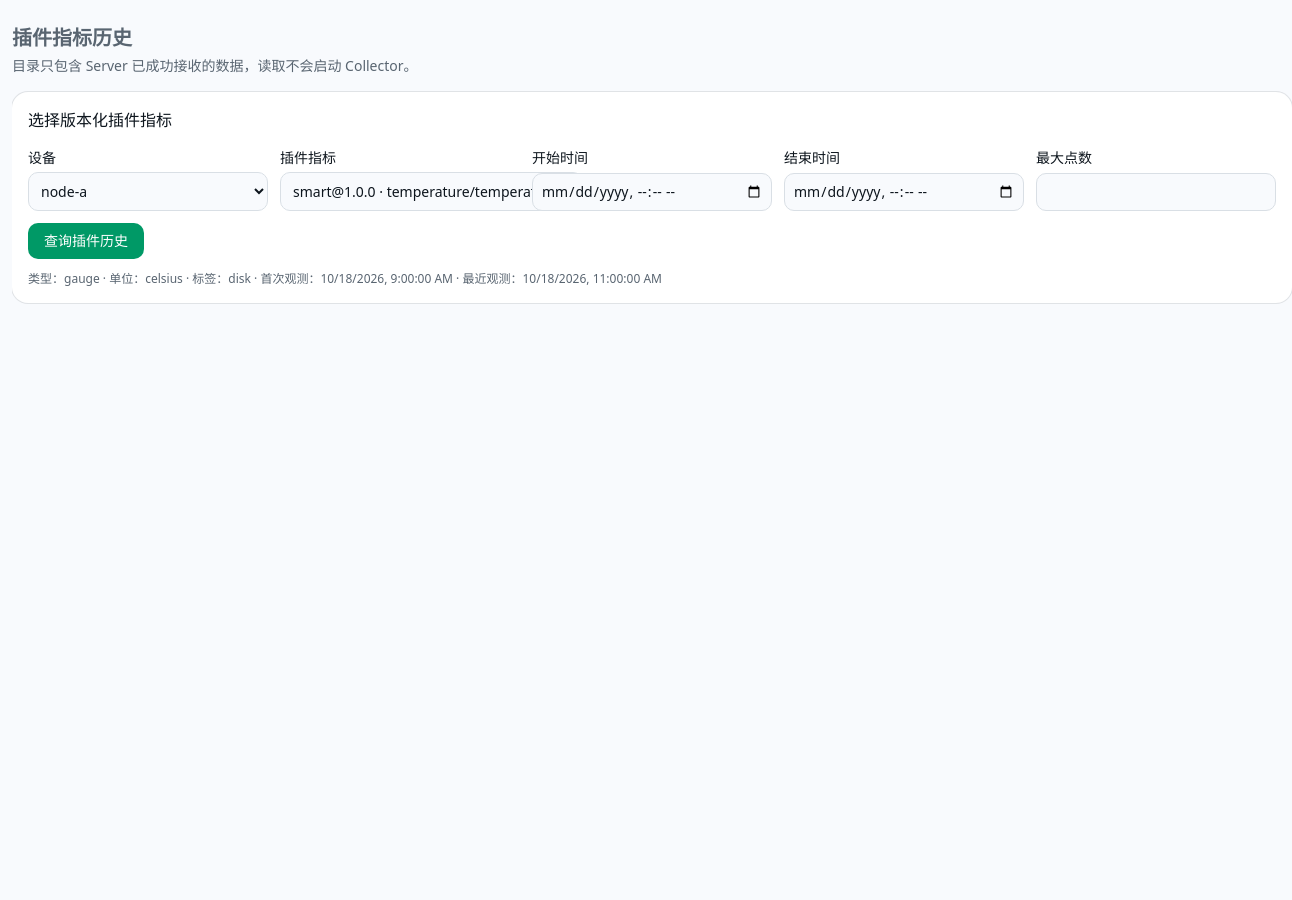
PluginHistoricalMetricExplorer › queries one exact versioned descriptor and displays aggregate semantics
Type "2026-10-18T10:00" into the field named "插件开始时间" at x=652, y=192, box top-left (532, 172), bottom-right (772, 211)
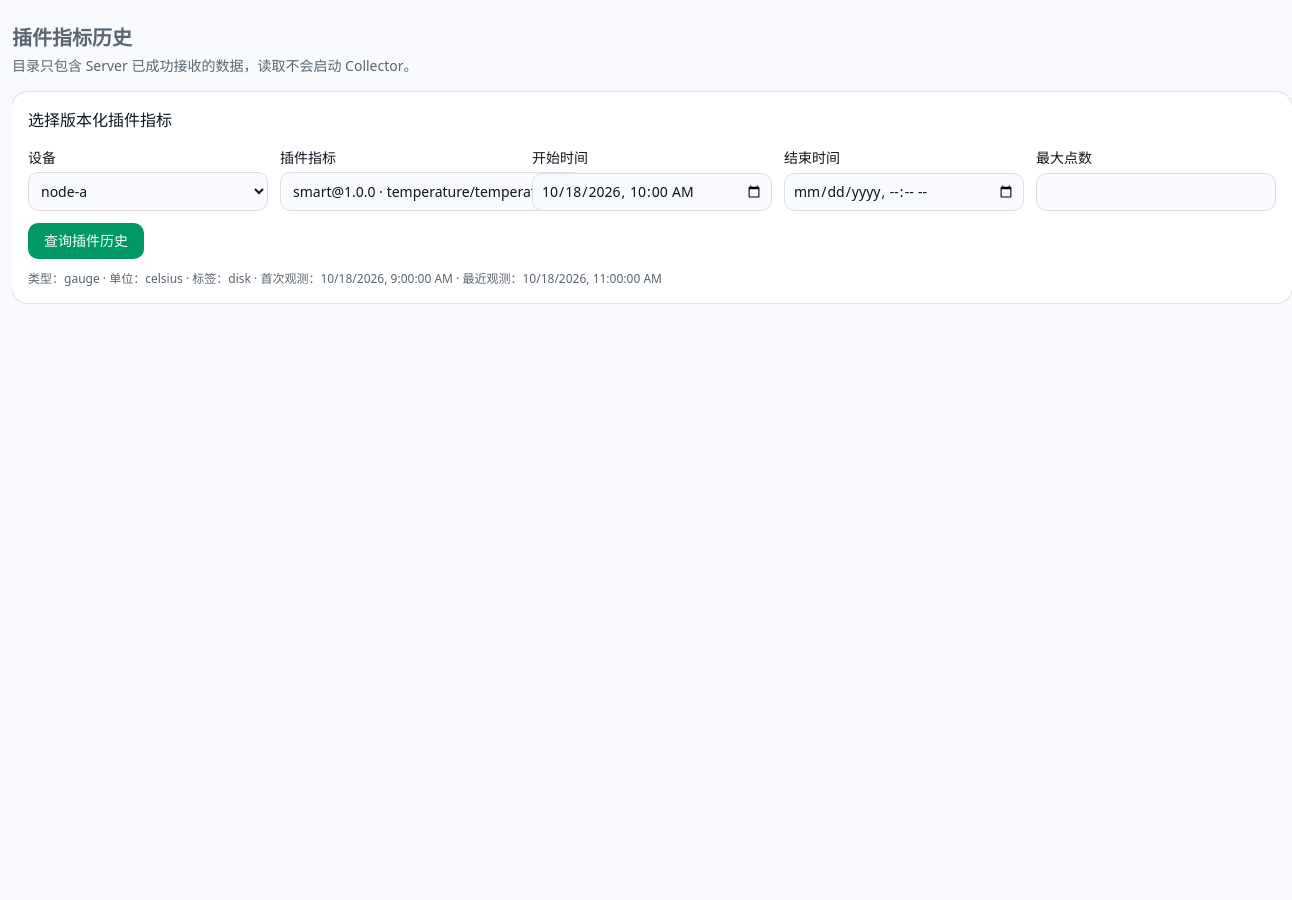
Type "2026-10-18T11:00" into the field named "插件结束时间" at x=904, y=192, box top-left (784, 172), bottom-right (1024, 211)
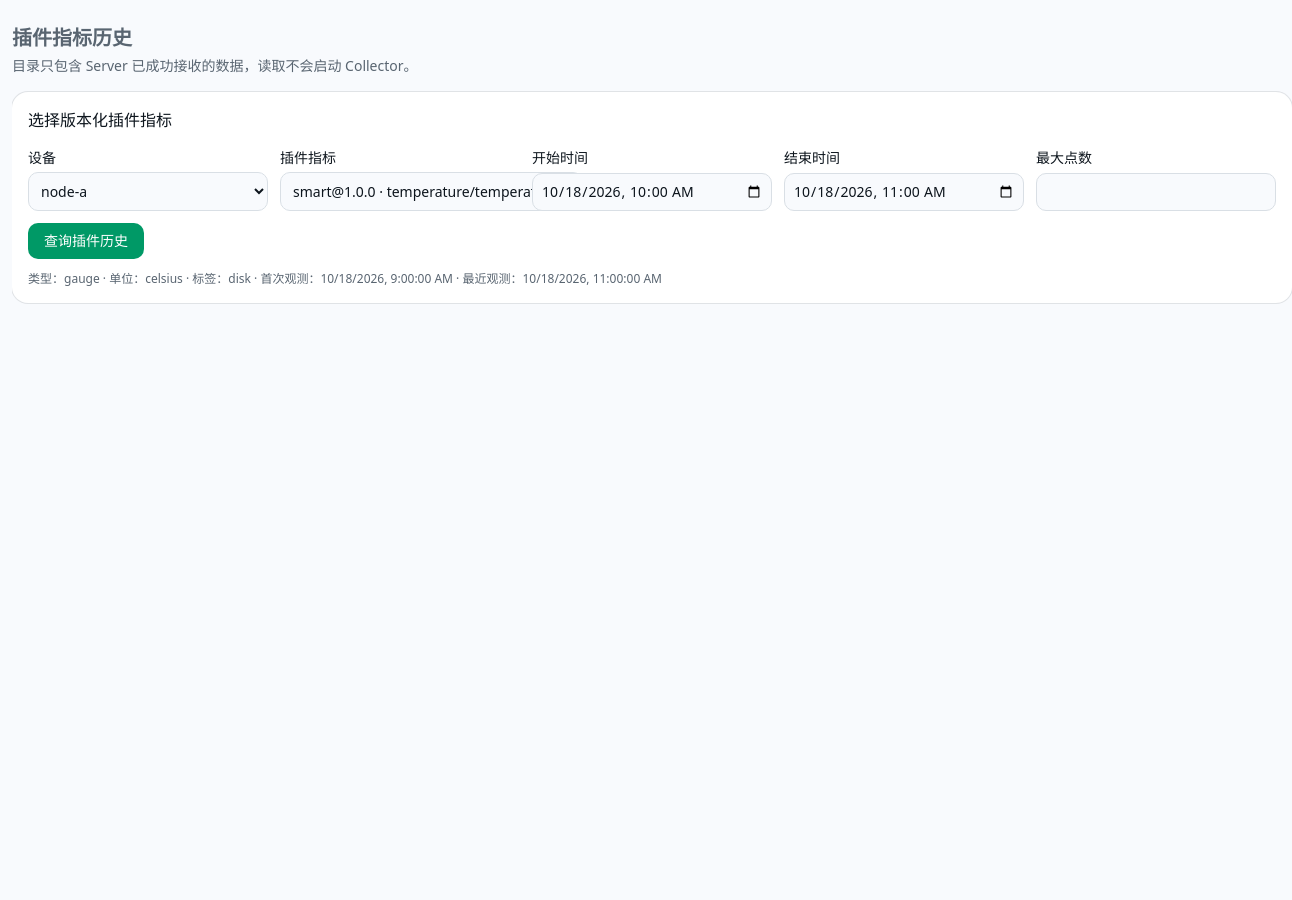
Type "50" into the number field named "插件最大点数" at x=1156, y=192, box top-left (1036, 172), bottom-right (1276, 211)
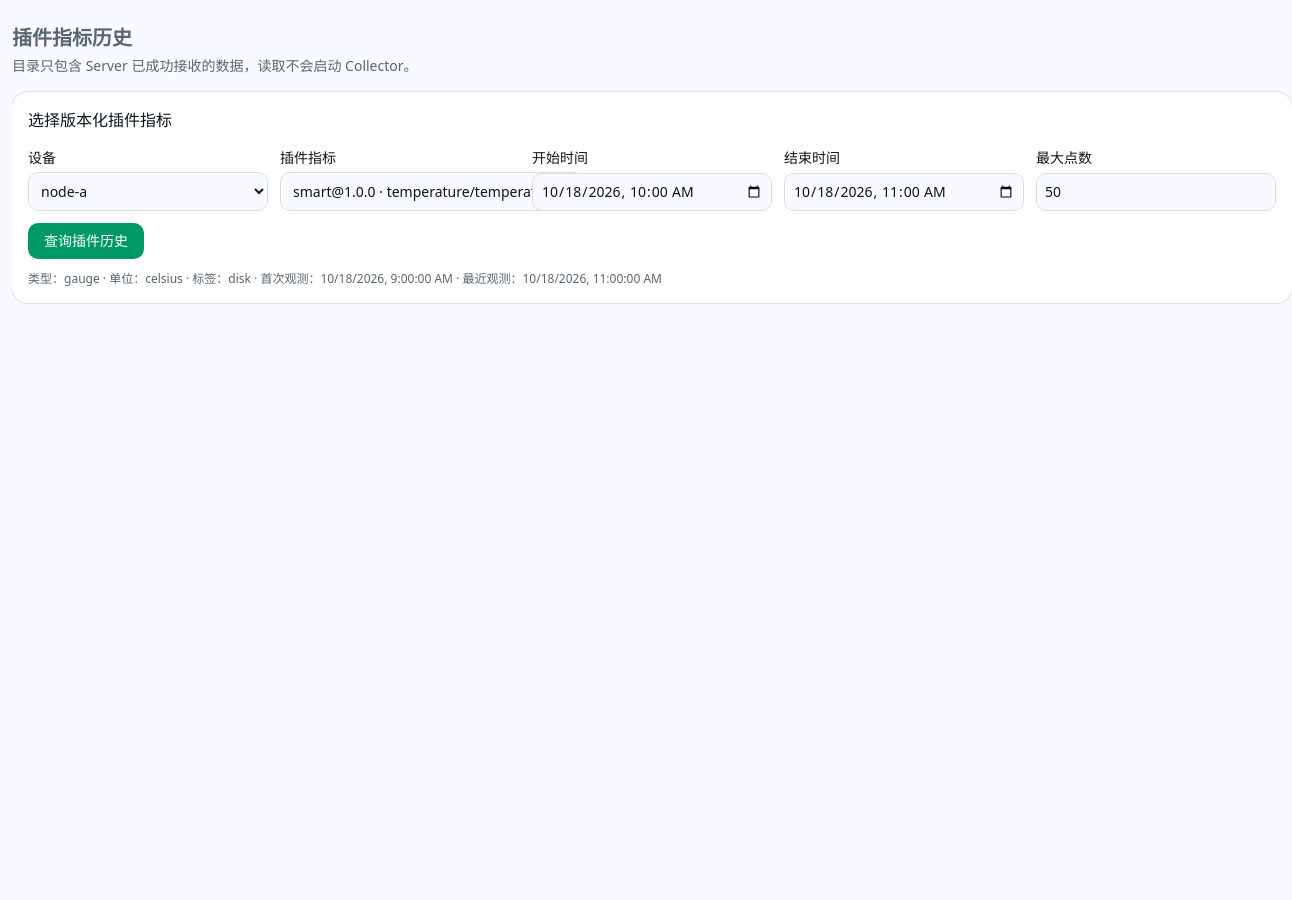
Click the button "查询插件历史" at x=86, y=241, box top-left (28, 223), bottom-right (144, 259)
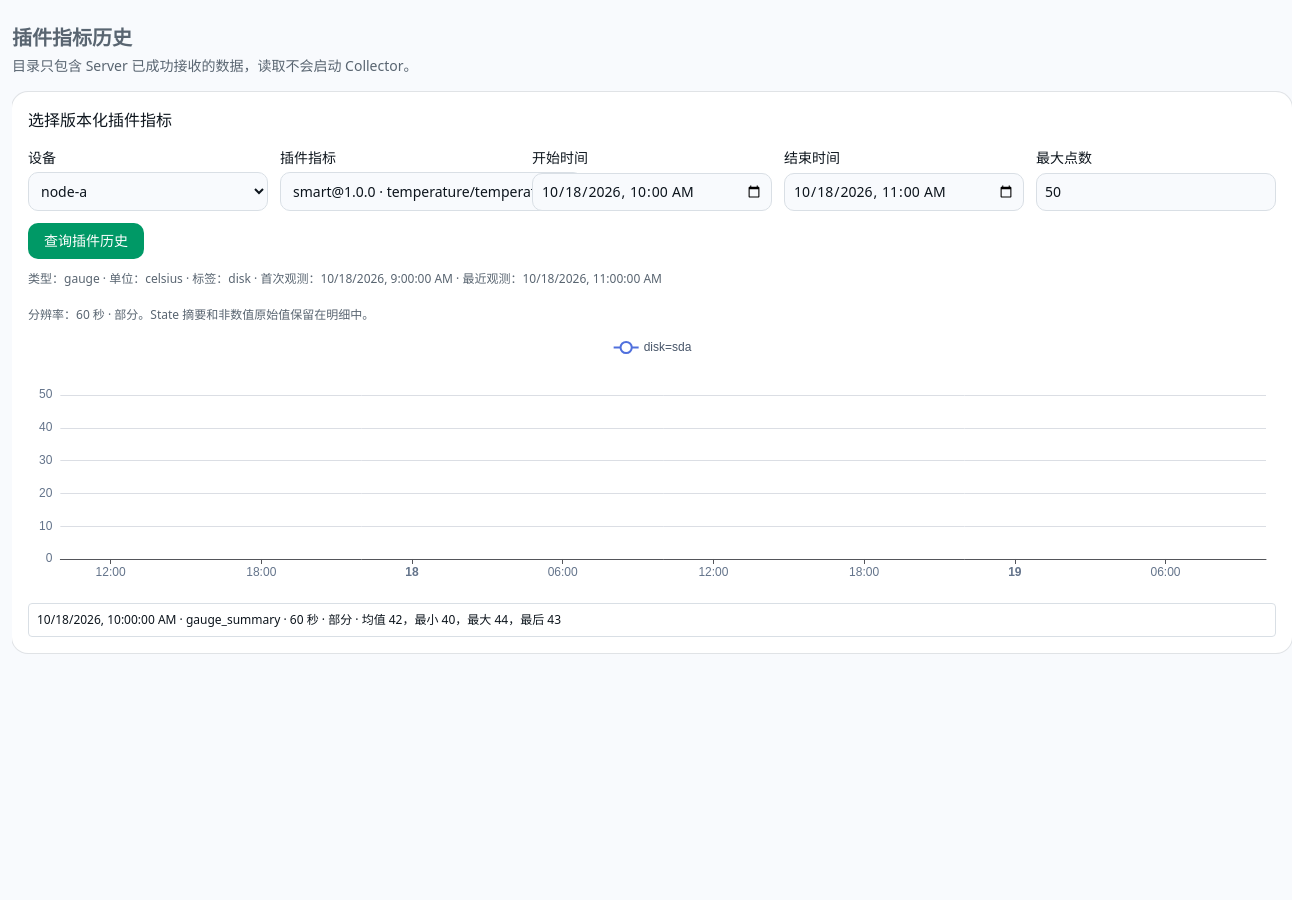
Expected: the text "分辨率：60 秒 · 部分。State 摘要和非数值原始值保留在明细中。" is shown, top-left (28, 306), bottom-right (374, 323)
Expected: the list item "gauge_summary" shows "均值 42，最小 40，最大 44，最后 43", top-left (362, 611), bottom-right (561, 628)
Expected: the picture named "smart temperature插件历史趋势" is shown, top-left (28, 335), bottom-right (1276, 591)
